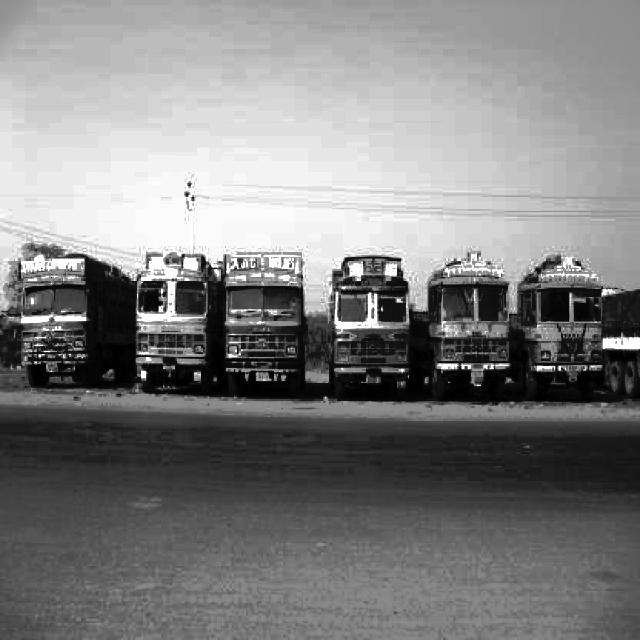HCV: (26, 254, 124, 378), (329, 252, 417, 388), (434, 257, 511, 394), (137, 244, 210, 384), (226, 254, 302, 388), (522, 263, 602, 389)
